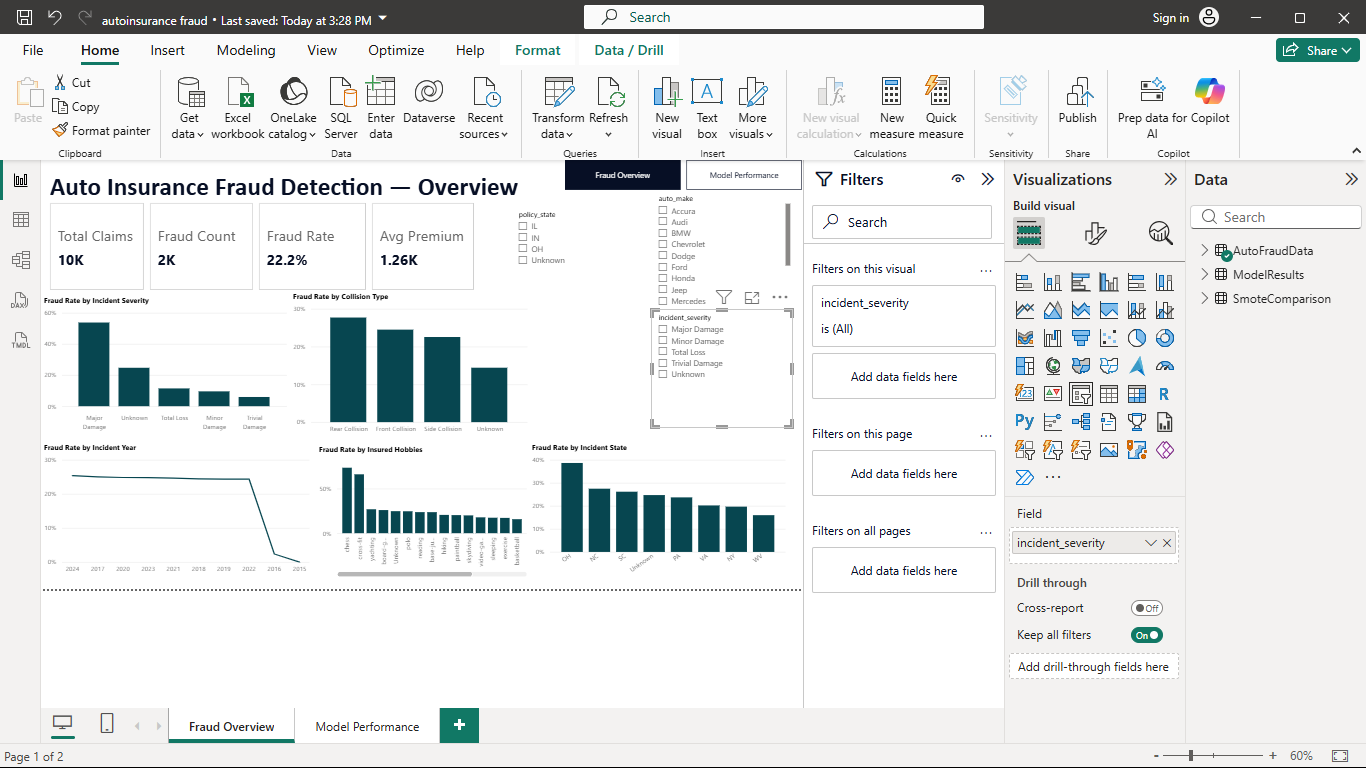

Layout of this report page (visuals, bound fields, positions):
{"tool":"powerbi","page":{"name":"Fraud Overview","canvas":[1280,720],"ordinal":0},"visuals":[{"type":"cardVisual","fields":{"Data":["AutoFraudData.Total Claims"]},"box":[9.7,67.6,168,156.4],"z":0},{"type":"cardVisual","fields":{"Data":["AutoFraudData.Fraud Count"]},"box":[177.6,67.6,183.4,156.4],"z":1000},{"type":"cardVisual","fields":{"Data":["AutoFraudData.Fraud Rate"]},"box":[361,67.6,189.2,156.4],"z":2000},{"type":"cardVisual","fields":{"Data":["AutoFraudData.Avg Premium"]},"box":[550.2,67.6,181.5,156.4],"z":3000},{"type":"textbox","box":[9.7,13.5,870.7,71.4],"z":4000},{"type":"slicer","fields":{"Values":["AutoFraudData.incident_severity"]},"box":[1024,250.9,239.2,198.7],"z":5000},{"type":"slicer","fields":{"Values":["AutoFraudData.policy_state"]},"box":[789.6,77.2,233.6,173.8],"z":6000},{"type":"slicer","fields":{"Values":["AutoFraudData.auto_make"]},"box":[1024,50.5,239.2,200.4],"z":7000},{"type":"clusteredColumnChart","title":"Fraud Rate by Incident Severity","fields":{"Y":["AutoFraudData.Fraud Rate"],"Category":["AutoFraudData.incident_severity"]},"box":[0,227.4,417.7,235.8],"z":8000},{"type":"clusteredColumnChart","title":"Fraud Rate by Collision Type","fields":{"Y":["AutoFraudData.Fraud Rate"],"Category":["AutoFraudData.collision_type"]},"box":[417.7,220.6,404.2,249.3],"z":9000},{"type":"clusteredColumnChart","title":"Fraud Rate by Insured Hobbies","fields":{"Y":["AutoFraudData.Fraud Rate"],"Category":["AutoFraudData.insured_hobbies"]},"box":[461.4,476.9,359.1,227.8],"z":10000},{"type":"lineChart","title":"Fraud Rate by Incident Year","fields":{"Y":["AutoFraudData.Fraud Rate"],"Category":["AutoFraudData.incident_year"]},"box":[0,473.3,456.4,230.7],"z":11000},{"type":"clusteredColumnChart","title":"Fraud Rate by Incident State","fields":{"Y":["AutoFraudData.Fraud Rate"],"Category":["AutoFraudData.incident_state"]},"box":[820.5,473,436.3,231.7],"z":12000},{"type":"pageNavigator","box":[880.2,0,399.8,50.4],"z":13000}]}

Visuals, with their boxes on the page's 1280x720 design canvas (x1, y1, x2, y2). These are canvas units, not pixel positions in the 1366x768 screenshot, which may show the page scaled, cropped or inside an application window:
cardVisual - AutoFraudData.Total Claims: (x1=10, y1=68, x2=178, y2=224)
cardVisual - AutoFraudData.Fraud Count: (x1=178, y1=68, x2=361, y2=224)
cardVisual - AutoFraudData.Fraud Rate: (x1=361, y1=68, x2=550, y2=224)
cardVisual - AutoFraudData.Avg Premium: (x1=550, y1=68, x2=732, y2=224)
textbox: (x1=10, y1=14, x2=880, y2=85)
slicer - AutoFraudData.incident_severity: (x1=1024, y1=251, x2=1263, y2=450)
slicer - AutoFraudData.policy_state: (x1=790, y1=77, x2=1023, y2=251)
slicer - AutoFraudData.auto_make: (x1=1024, y1=50, x2=1263, y2=251)
"Fraud Rate by Incident Severity" clusteredColumnChart: (x1=0, y1=227, x2=418, y2=463)
"Fraud Rate by Collision Type" clusteredColumnChart: (x1=418, y1=221, x2=822, y2=470)
"Fraud Rate by Insured Hobbies" clusteredColumnChart: (x1=461, y1=477, x2=820, y2=705)
"Fraud Rate by Incident Year" lineChart: (x1=0, y1=473, x2=456, y2=704)
"Fraud Rate by Incident State" clusteredColumnChart: (x1=820, y1=473, x2=1257, y2=705)
pageNavigator: (x1=880, y1=0, x2=1280, y2=50)
